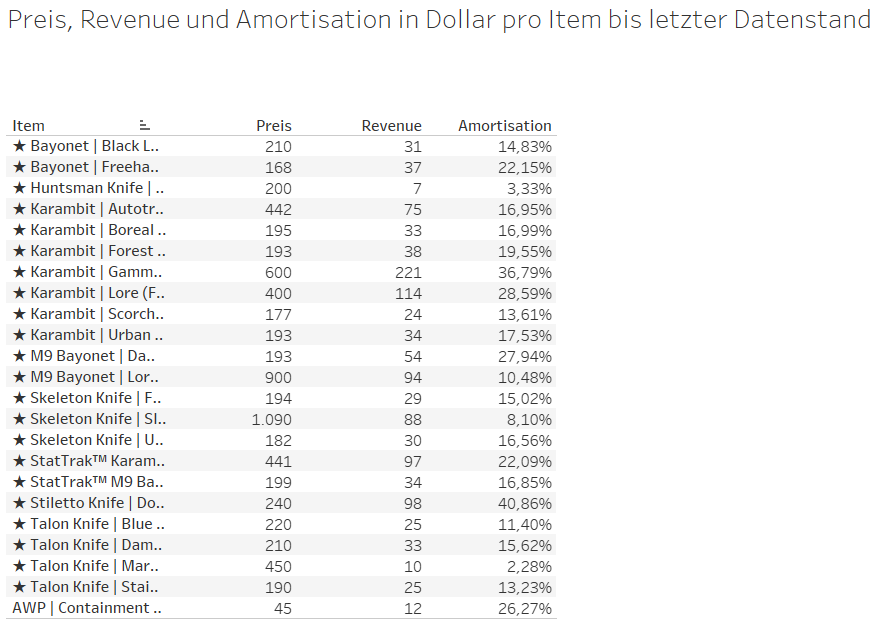

The page's visual inventory and layout, read from the dashboard file:
{"tool":"tableau","page":{"name":"Dashboard 1","canvas":[1000,800],"ordinal":0},"visuals":[{"type":"worksheet","title":"Blatt 1","mark":"Automatic","rows":["Item"],"box":[8,8,984,784]}]}

Visuals, with their boxes on the page's 1000x800 design canvas (x1, y1, x2, y2). These are canvas units, not pixel positions in the 881x637 screenshot, which may show the page scaled, cropped or inside an application window:
"Blatt 1" worksheet: x1=8 y1=8 x2=992 y2=792
